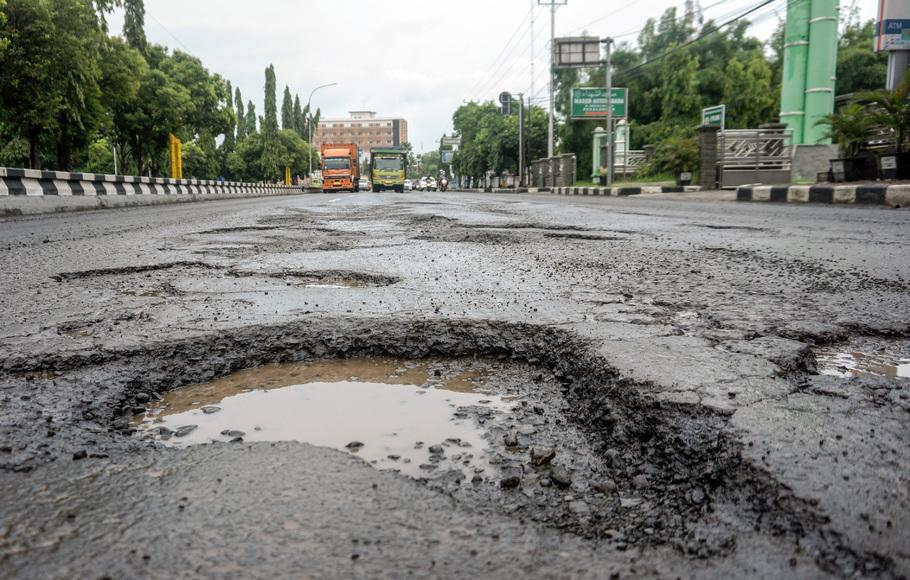Pothole: (96, 331, 707, 514), (14, 244, 394, 320), (406, 199, 650, 261), (797, 297, 910, 429), (169, 212, 346, 248), (676, 207, 790, 244)
